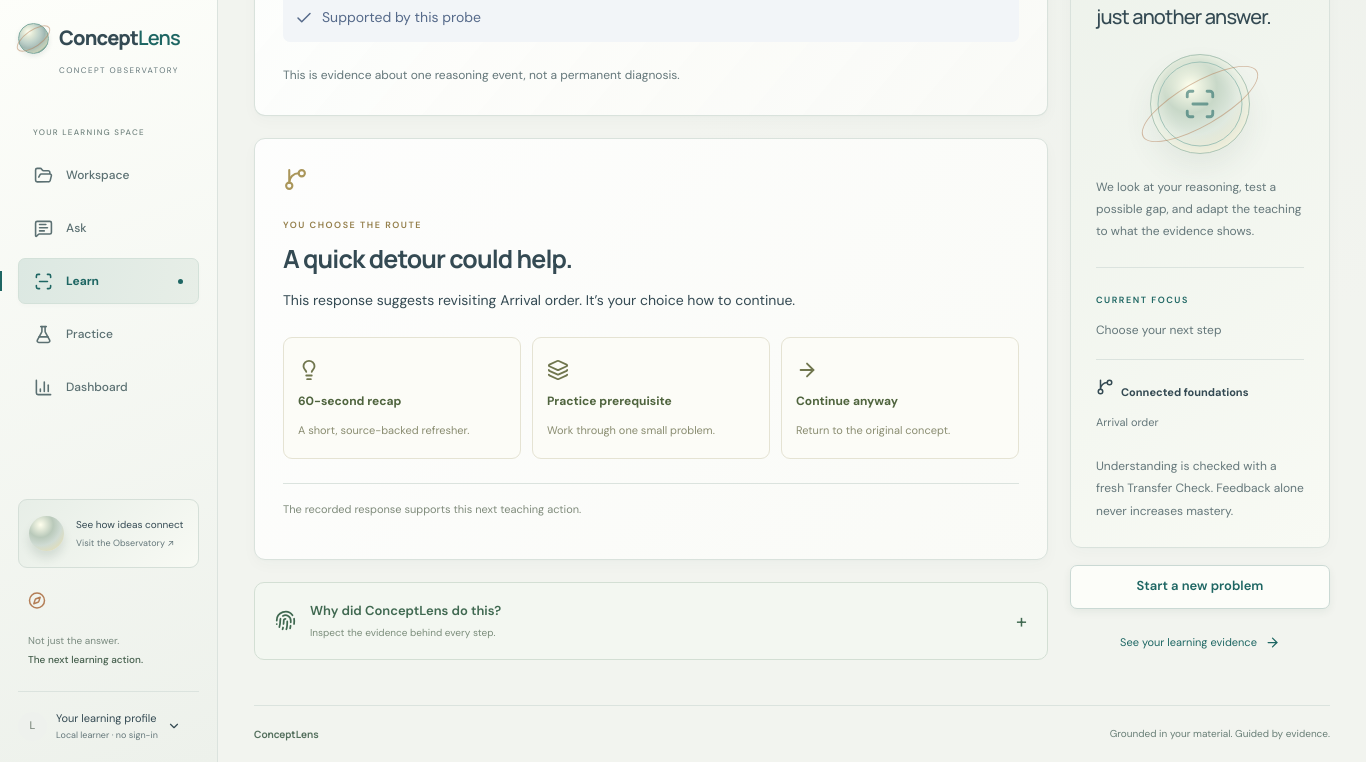
Test: application contracts › posts continue_anyway and renders only the returned strategy
(page scrolled)
Click the button "Continue anyway Return to the original concept." at (900, 398), box top-left (781, 337), bottom-right (1019, 459)
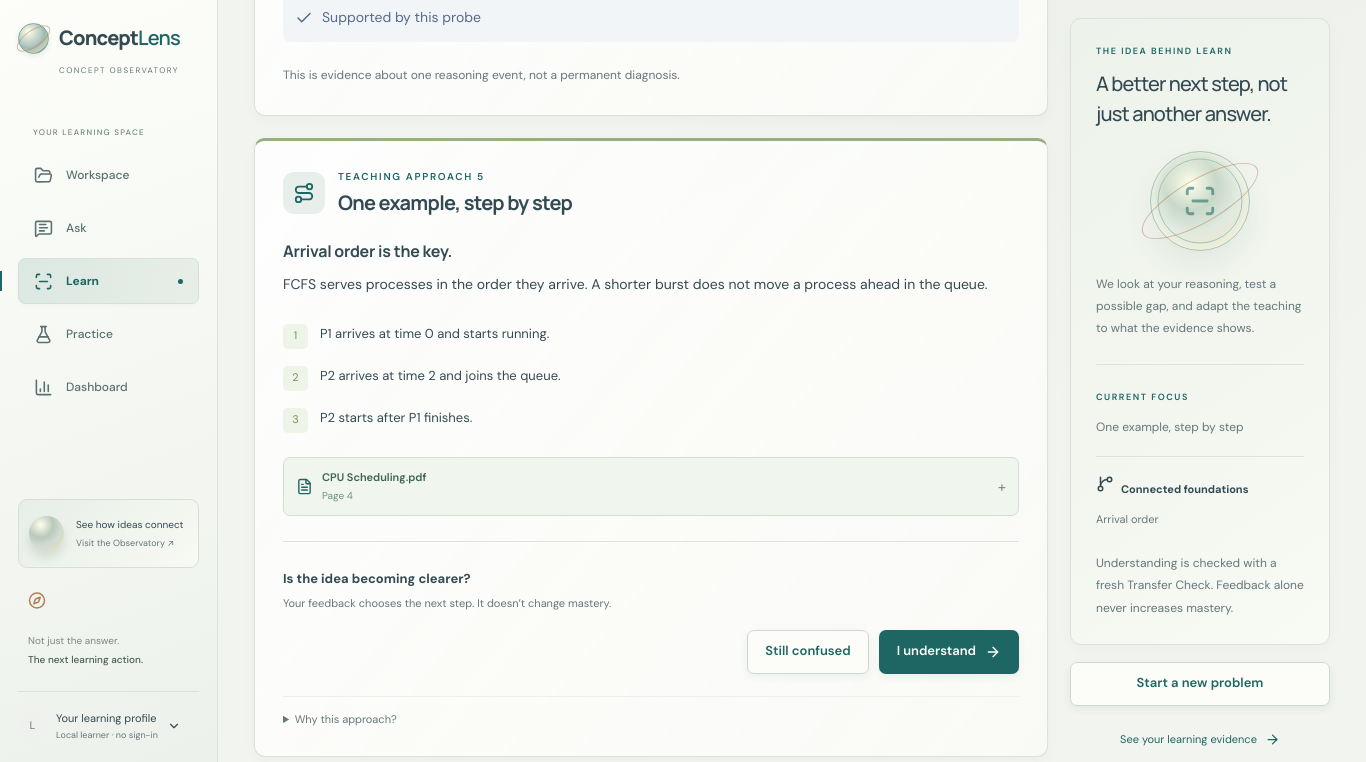
Result: the heading "One example, step by step" is shown at top-left (338, 190), bottom-right (572, 216)
